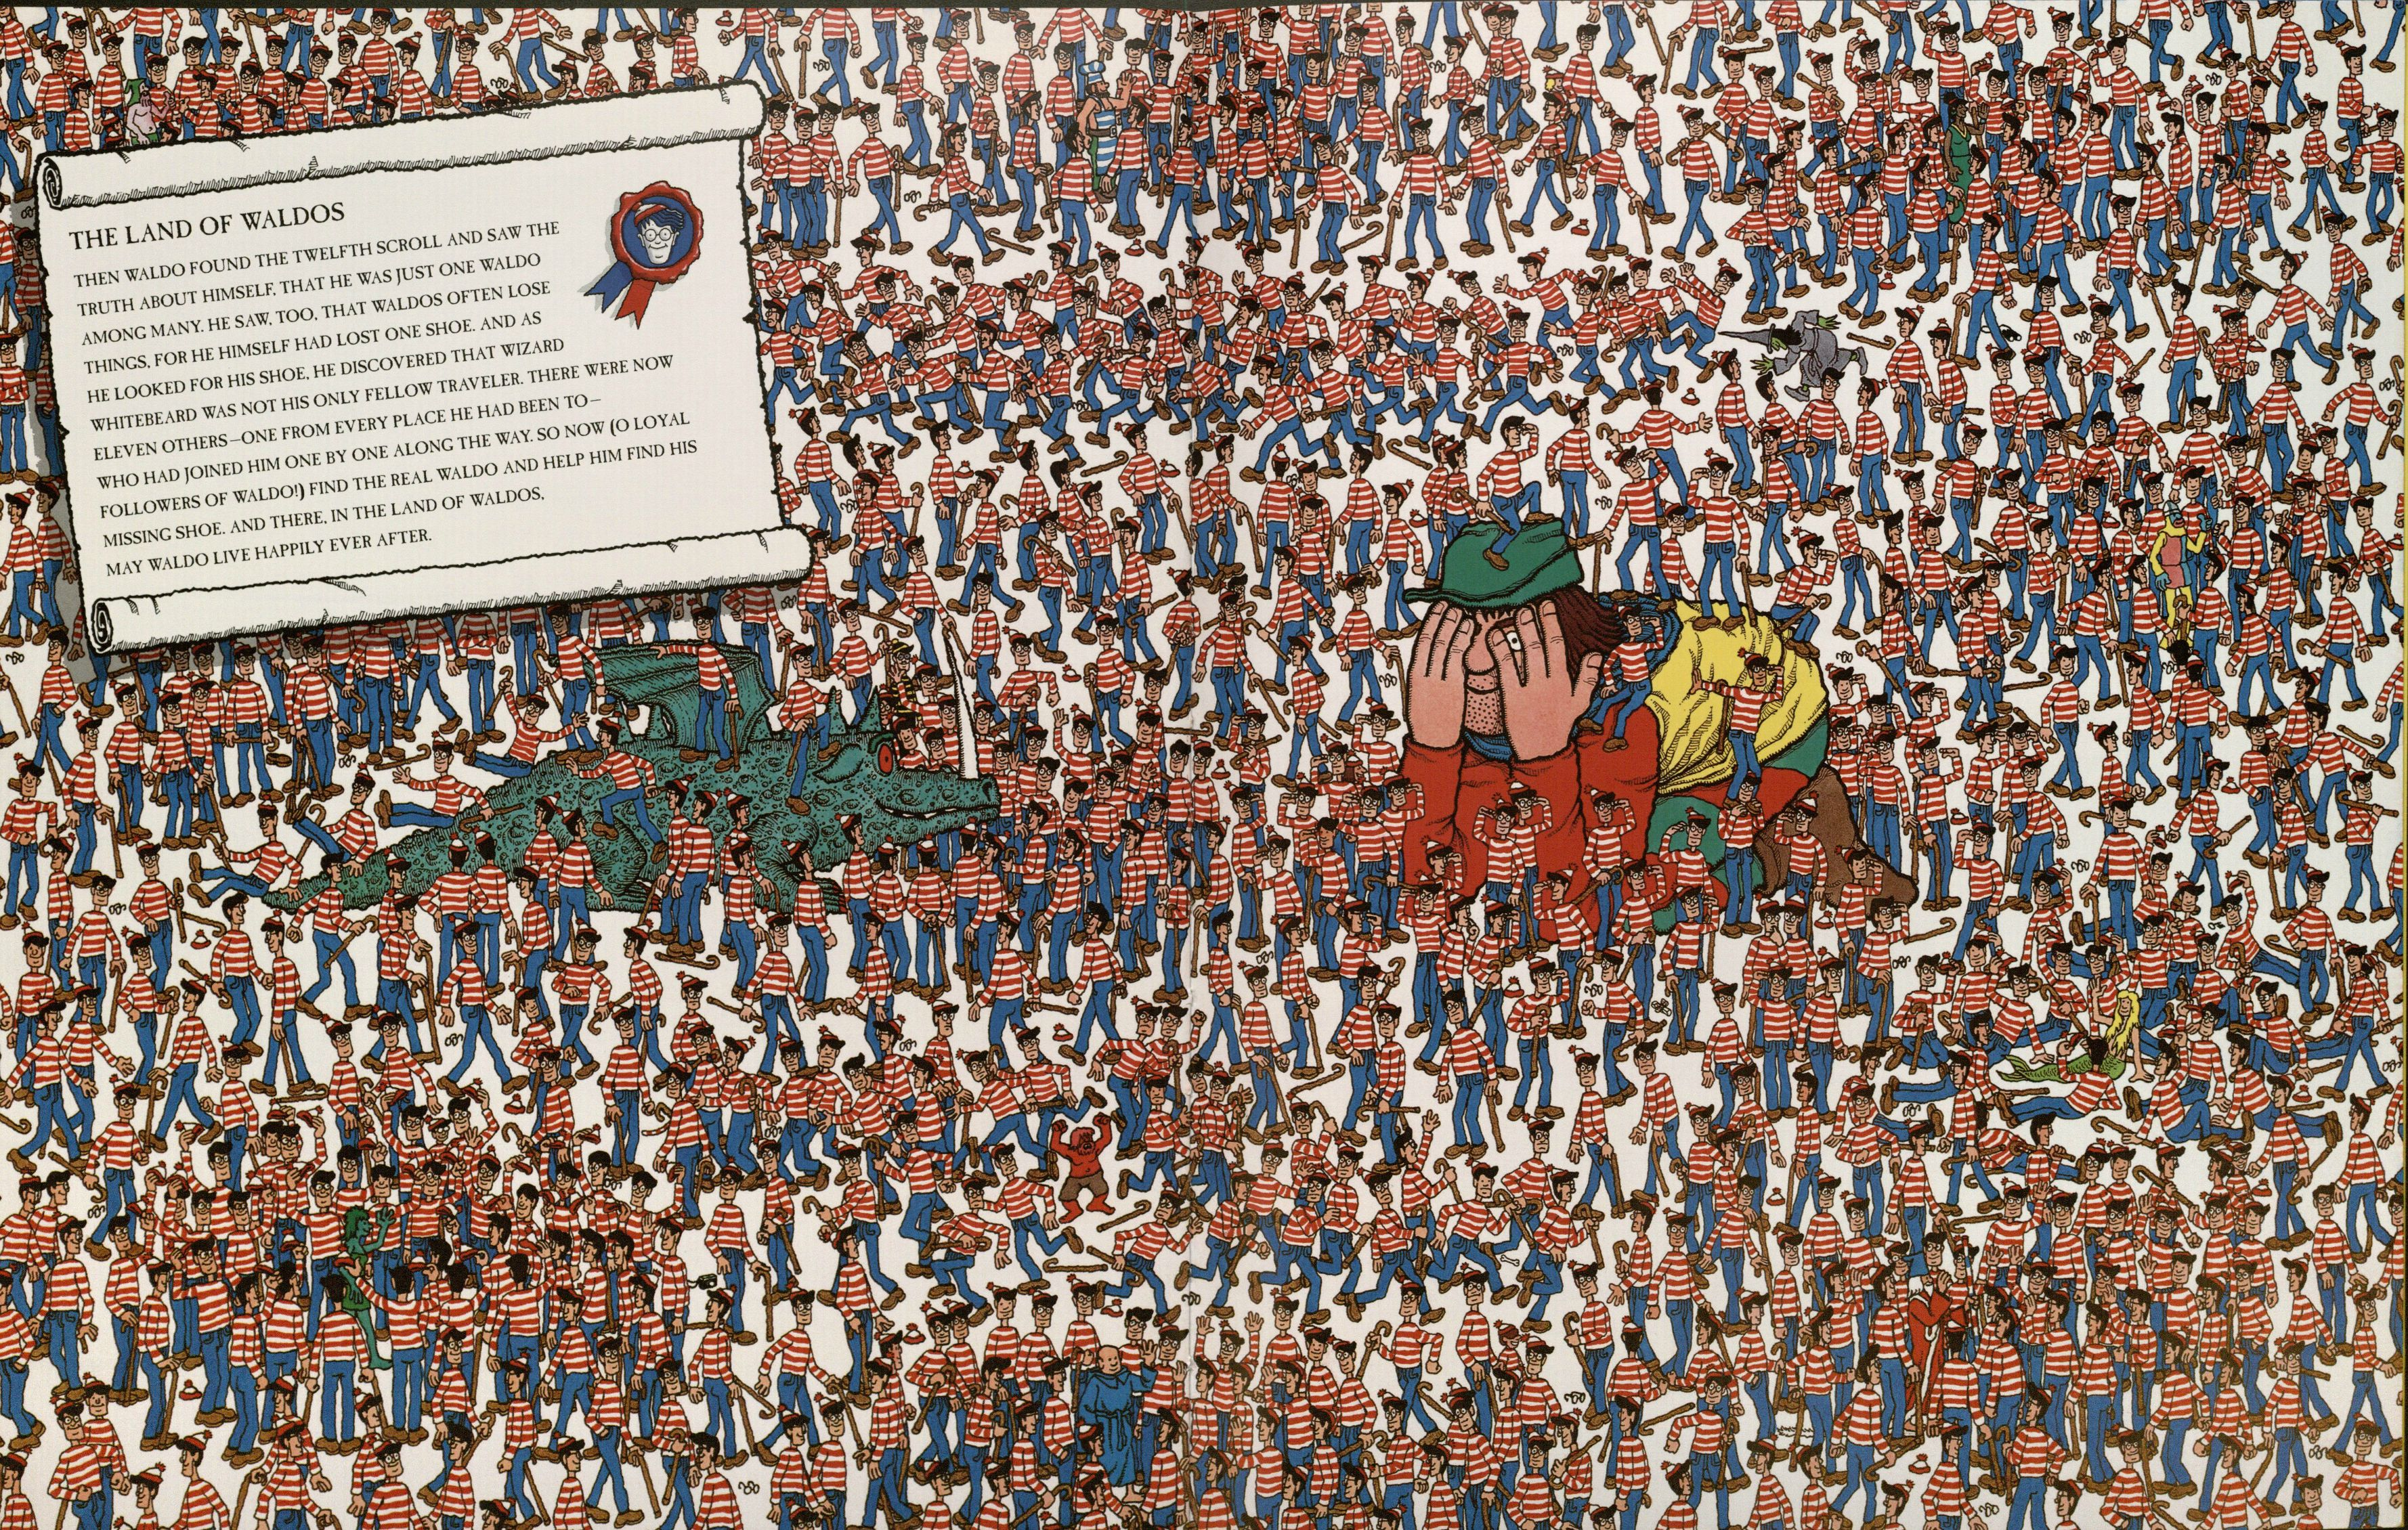Charlie: (2011, 347, 2057, 512)
Odlaw: (892, 639, 916, 702)
Wenda: (2224, 1139, 2252, 1200)
Wizard Whitebeard: (1887, 1235, 1982, 1432)
